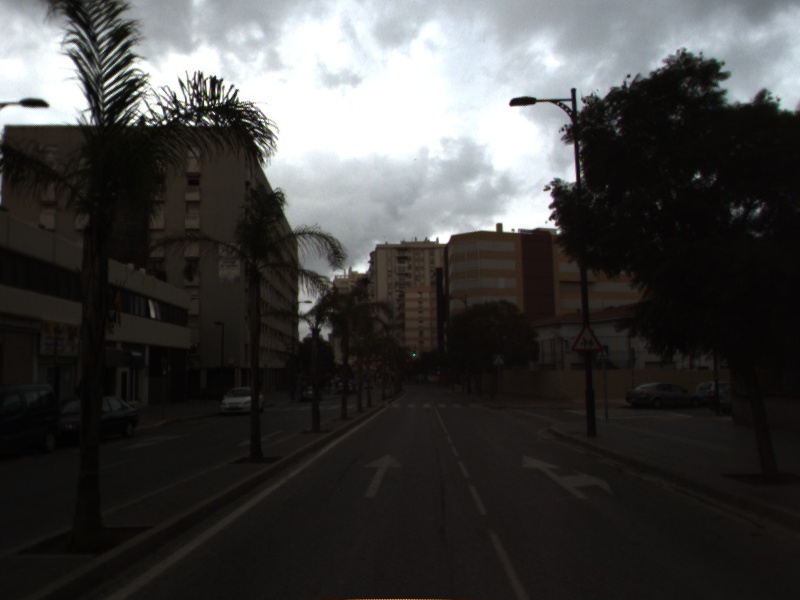STRAIGHT: (361, 452, 406, 500)
STRAIGHT_RIGHT: (519, 452, 614, 501)
